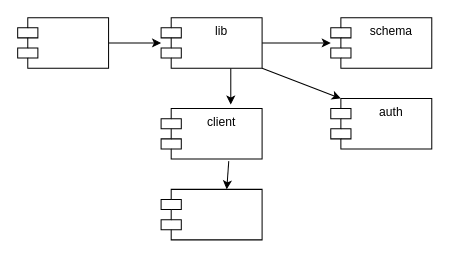
Image size: 449x258. Some labels were removed from this diagram. The centre of each missing label's shape, as x and y in pixels:
cli: point (63, 42)
openapi: point (211, 214)
